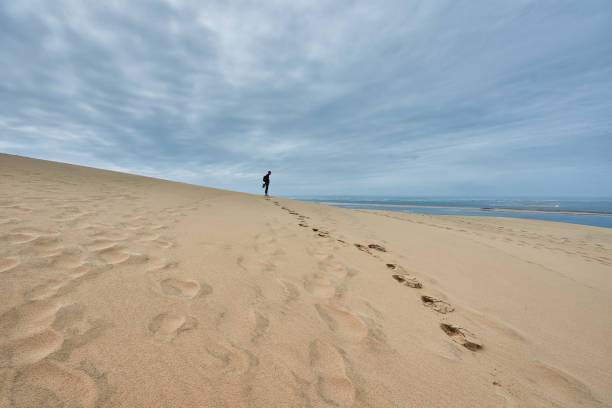human_foot_print: (0, 297, 105, 367), (9, 359, 104, 407), (524, 361, 604, 406), (50, 304, 110, 360), (309, 339, 355, 406), (0, 298, 65, 338), (0, 329, 62, 367), (315, 304, 367, 341), (203, 339, 252, 374), (148, 312, 197, 341), (158, 277, 212, 298), (440, 323, 482, 350), (23, 278, 65, 300), (386, 263, 422, 288), (21, 236, 63, 257), (160, 278, 200, 297), (52, 248, 86, 269), (304, 275, 334, 297), (421, 295, 454, 313), (251, 310, 269, 342), (138, 231, 173, 247), (99, 247, 130, 264), (321, 262, 348, 280), (280, 280, 299, 303), (146, 257, 177, 271), (392, 274, 422, 288), (12, 227, 58, 236), (92, 229, 129, 240), (84, 239, 117, 251), (3, 233, 37, 244), (354, 243, 386, 254), (0, 256, 19, 272), (136, 230, 159, 241), (152, 238, 173, 248), (354, 243, 370, 253), (313, 228, 329, 237), (368, 244, 386, 251), (386, 263, 397, 269), (298, 221, 308, 227), (312, 227, 318, 231)
